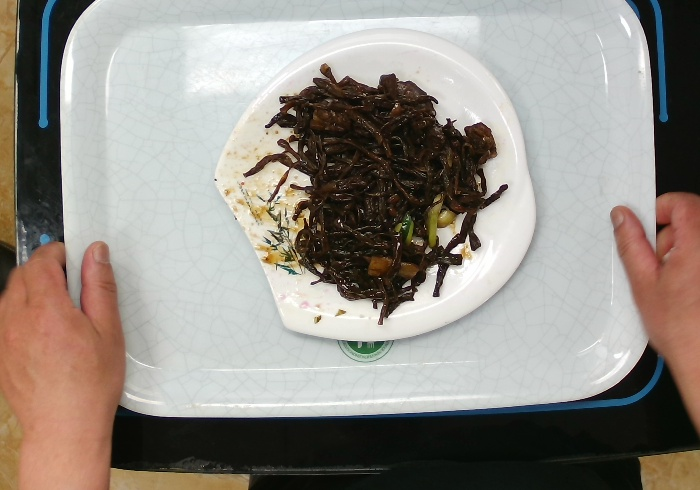JYsf-Mian_Pan: (209, 25, 540, 348)
